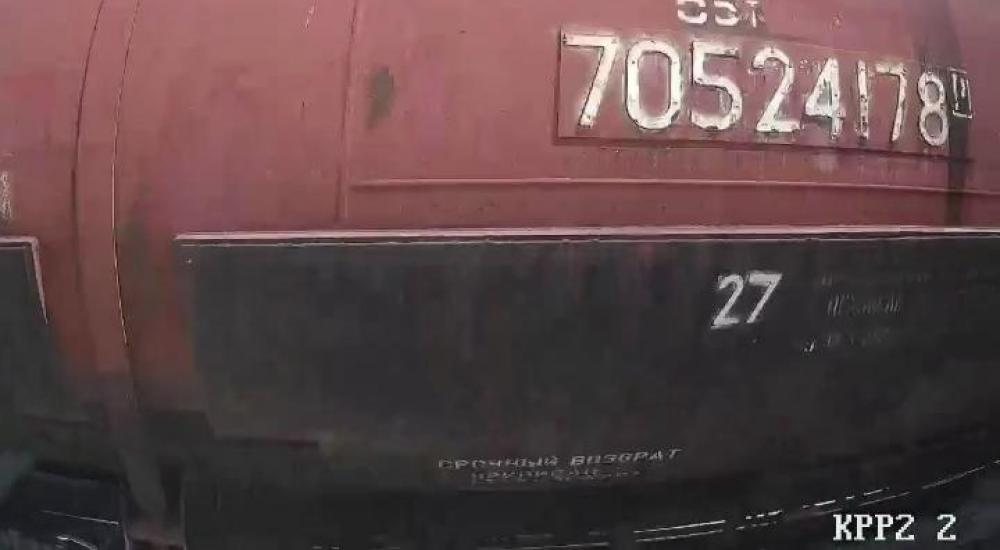Wagon-number: (558, 32, 950, 156)
